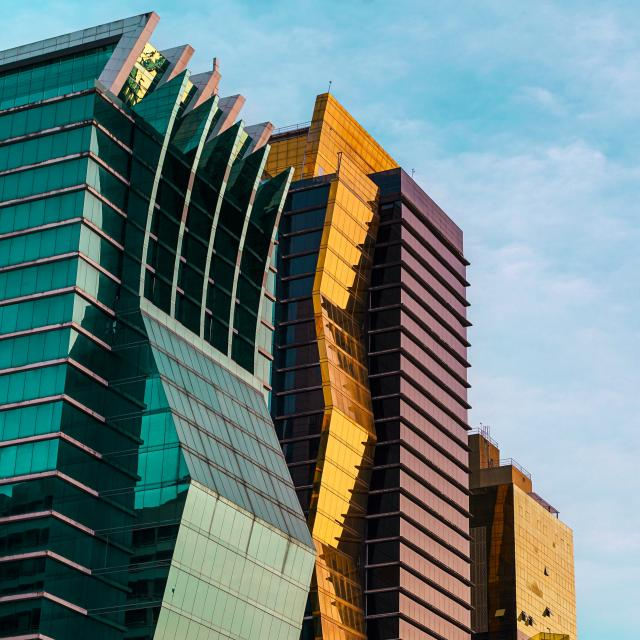Glass: (0, 58, 464, 640)
